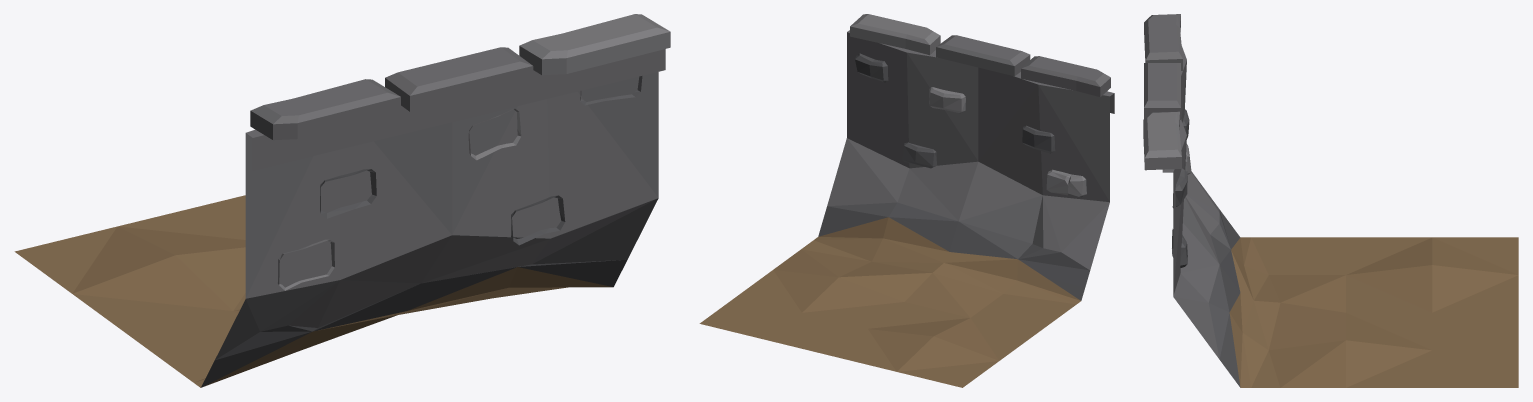
The model's file is SM_Env_Canal_01.gltf.
3 renders of one model, left to right at view 1: azimuth 30°, elevation 25°; view 2: azimuth 150°, elevation 25°; view 3: azimuth 270°, elevation 25°, orthographic. The views are drawn at different scales.
Parts seen in each view (by area): view 1: SM_Env_Canal_01; view 2: SM_Env_Canal_01; view 3: SM_Env_Canal_01.
Boxes of the visible parts, x1,y1,x2,y2 form: SM_Env_Canal_01: (14, 14, 670, 387); SM_Env_Canal_01: (699, 14, 1114, 387); SM_Env_Canal_01: (1143, 14, 1518, 387).
Bounding box in the file's own units: 3 × 2.14 × 3.16.
1 material, 1 textured.
